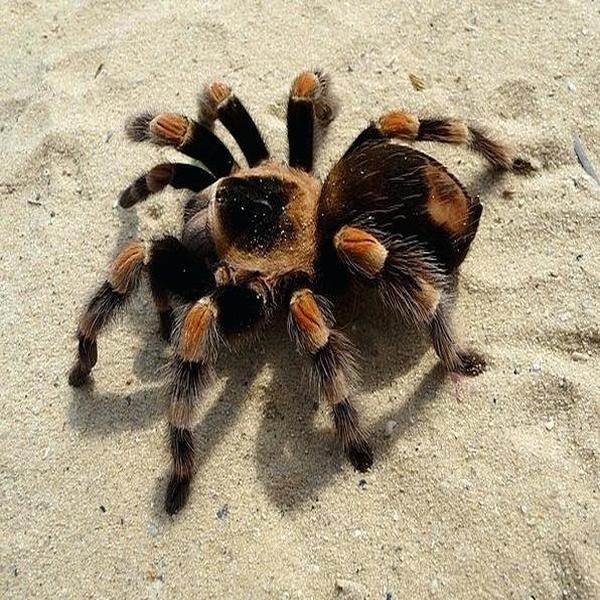Tarantula Spider: (74, 74, 513, 500)
